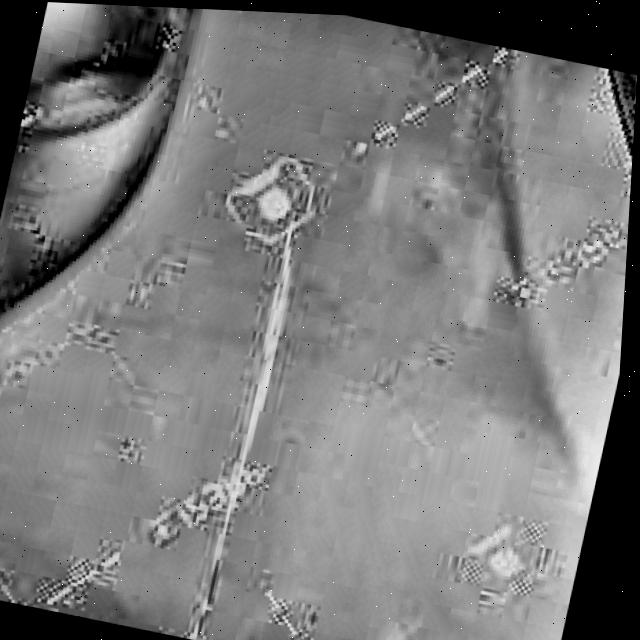bumper_scratch: (176, 204, 318, 640)
